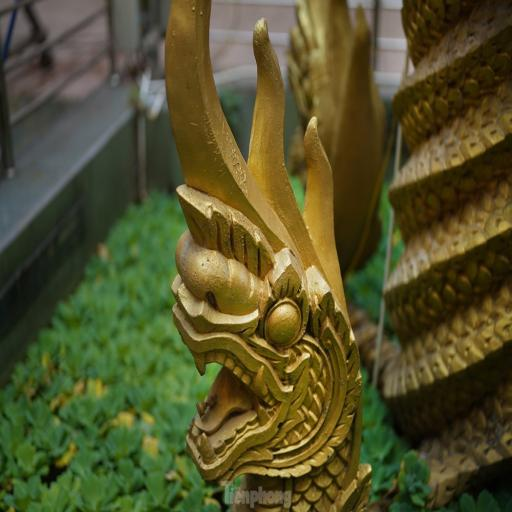ran: (136, 0, 413, 512)
